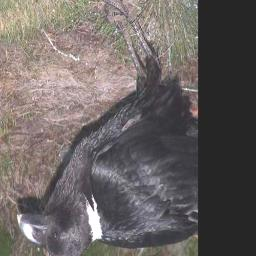Crow: (16, 0, 198, 256)
